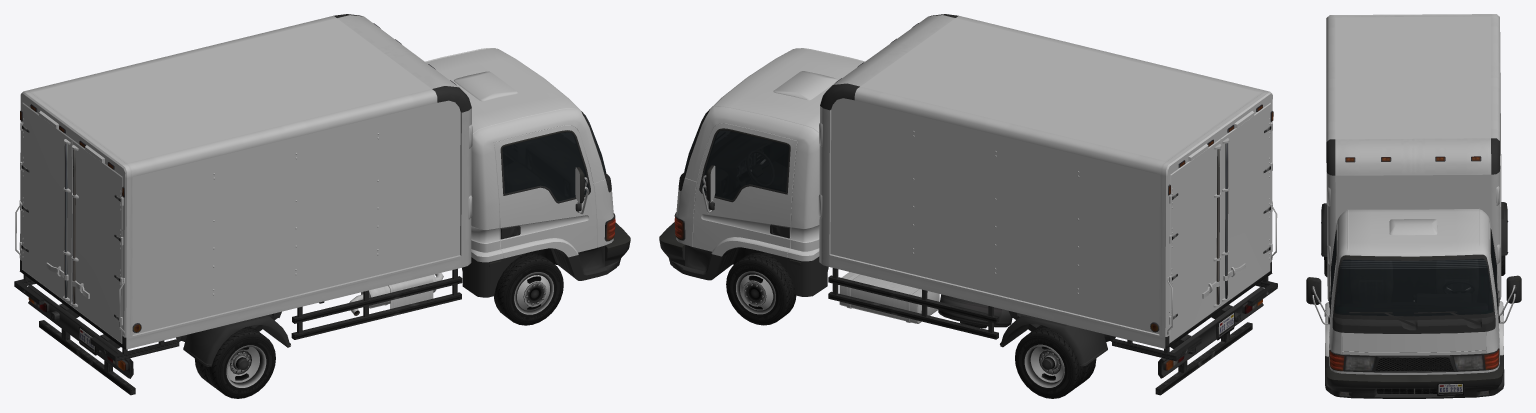
Rendered from lct3000.glb.
3 renders of one model, left to right at view 1: azimuth 30°, elevation 25°; view 2: azimuth 150°, elevation 25°; view 3: azimuth 270°, elevation 25°, orthographic. The views are drawn at different scales.
Parts seen in each view (by area): view 1: LCT300095_Body_lct3000_Bodymat_0, LCT300095_Bottom_UCB_BOTTOM_0, LCT300095_Reardoor_Left_lct3000_Bodymat_0, LCT300095_Reardoor_Right_lct3000_Bodymat_0, LCT300095_Glass_Passenger_UCB_Lights_and_Glass_Transperent_0, LCT300095_Interior_UCB_Interiors_2_0, LCT300095_WheelStock_FR_RB1c_Tire_1k_0, LCT300095_WheelStock_RR_RB1c_Tire_1k_0, LCT300095_Bumper_rear_UCB_BOTTOM_0, LCT300095_Reardoor_Left_Inner_UCB_BOTTOM_0, LCT300095_Reardoor_Right_Inner_UCB_BOTTOM_0, LCT300095_Bumper_front_UCB_BOTTOM_0; view 2: LCT300095_Body_lct3000_Bodymat_0, LCT300095_Bottom_UCB_BOTTOM_0, LCT300095_Reardoor_Right_lct3000_Bodymat_0, LCT300095_Reardoor_Left_lct3000_Bodymat_0, LCT300095_Glass_Driver_UCB_Lights_and_Glass_Transperent_0, LCT300095_WheelStock_FL_RB1c_Tire_1k_0, LCT300095_WheelStock_RL_RB1c_Tire_1k_0, LCT300095_Interior_UCB_Interiors_2_0, LCT300095_Bumper_rear_UCB_BOTTOM_0, LCT300095_Reardoor_Right_Inner_UCB_BOTTOM_0, LCT300095_Reardoor_Left_Inner_UCB_BOTTOM_0, LCT300095_Bumper_front_UCB_BOTTOM_0; view 3: LCT300095_Body_lct3000_Bodymat_0, LCT300095_Bottom_UCB_BOTTOM_0, LCT300095_Windshield_UCB_Lights_and_Glass_Transperent_0, LCT300095_Interior_UCB_Interiors_2_0, LCT300095_Bumper_front_UCB_BOTTOM_0, LCT300095_Headlights_Glass_UCB_Lights_and_Glass_Transperent_, LCT300095_Headlights_UCB_Lights_and_Glass_0, LCT300095_Numberplate_front_Numberplates_Misk_U_0, LCT300095_Glass_Driver_UCB_Lights_and_Glass_Transperent_0.
Boxes of the visible parts, x1,y1,x2,y2 form: LCT300095_Body_lct3000_Bodymat_0: (19,18,613,337); LCT300095_Bottom_UCB_BOTTOM_0: (14,14,615,395); LCT300095_Reardoor_Left_lct3000_Bodymat_0: (22,102,72,306); LCT300095_Reardoor_Right_lct3000_Bodymat_0: (72,140,122,343); LCT300095_Glass_Passenger_UCB_Lights_and_Glass_Transperent_0: (502,132,589,201); LCT300095_Interior_UCB_Interiors_2_0: (503,134,605,200); LCT300095_WheelStock_FR_RB1c_Tire_1k_0: (494,253,563,325); LCT300095_WheelStock_RR_RB1c_Tire_1k_0: (195,326,275,398); LCT300095_Bumper_rear_UCB_BOTTOM_0: (28,285,133,378); LCT300095_Reardoor_Left_Inner_UCB_BOTTOM_0: (21,125,70,300); LCT300095_Reardoor_Right_Inner_UCB_BOTTOM_0: (71,145,122,320); LCT300095_Bumper_front_UCB_BOTTOM_0: (605,223,630,273); LCT300095_Body_lct3000_Bodymat_0: (676,18,1272,336); LCT300095_Bottom_UCB_BOTTOM_0: (674,14,1277,395); LCT300095_Reardoor_Right_lct3000_Bodymat_0: (1219,103,1270,306); LCT300095_Reardoor_Left_lct3000_Bodymat_0: (1169,139,1220,343); LCT300095_Glass_Driver_UCB_Lights_and_Glass_Transperent_0: (701,130,788,200); LCT300095_WheelStock_FL_RB1c_Tire_1k_0: (726,252,796,325); LCT300095_WheelStock_RL_RB1c_Tire_1k_0: (1015,325,1096,398); LCT300095_Interior_UCB_Interiors_2_0: (685,132,788,199); LCT300095_Bumper_rear_UCB_BOTTOM_0: (1158,287,1263,378); LCT300095_Reardoor_Right_Inner_UCB_BOTTOM_0: (1221,125,1271,301); LCT300095_Reardoor_Left_Inner_UCB_BOTTOM_0: (1169,144,1221,319); LCT300095_Bumper_front_UCB_BOTTOM_0: (659,222,685,273); LCT300095_Body_lct3000_Bodymat_0: (1325,16,1503,374); LCT300095_Bottom_UCB_BOTTOM_0: (1306,14,1521,388); LCT300095_Windshield_UCB_Lights_and_Glass_Transperent_0: (1334,258,1493,316); LCT300095_Interior_UCB_Interiors_2_0: (1331,239,1497,315); LCT300095_Bumper_front_UCB_BOTTOM_0: (1325,366,1503,398); LCT300095_Headlights_Glass_UCB_Lights_and_Glass_Transperent_: (1329,349,1499,371); LCT300095_Headlights_UCB_Lights_and_Glass_0: (1345,355,1483,370); LCT300095_Numberplate_front_Numberplates_Misk_U_0: (1438,384,1462,394); LCT300095_Glass_Driver_UCB_Lights_and_Glass_Transperent_0: (1491,232,1497,309).
Size of the model in its own units: 6.02 by 2.85 by 2.61.
Materials: 7 (6 with a texture image).
